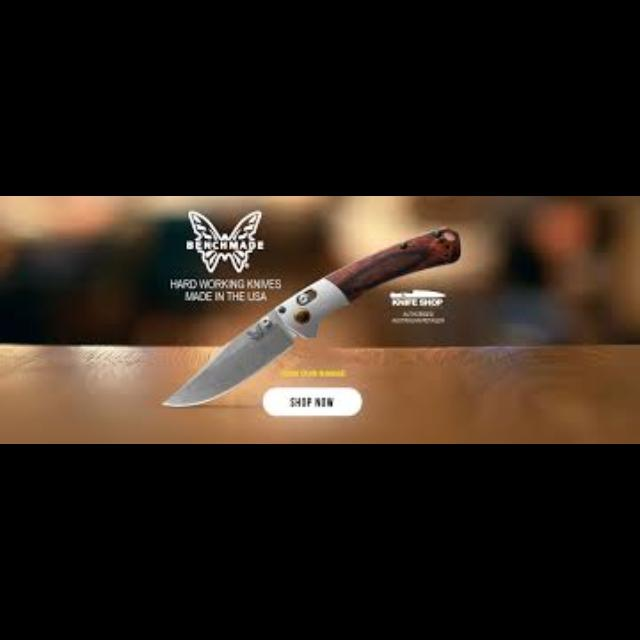Knife: (160, 225, 460, 408)
